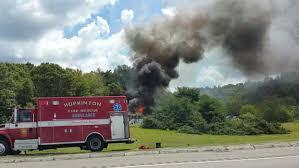fire: (133, 103, 147, 114)
smoke: (115, 4, 299, 108)
